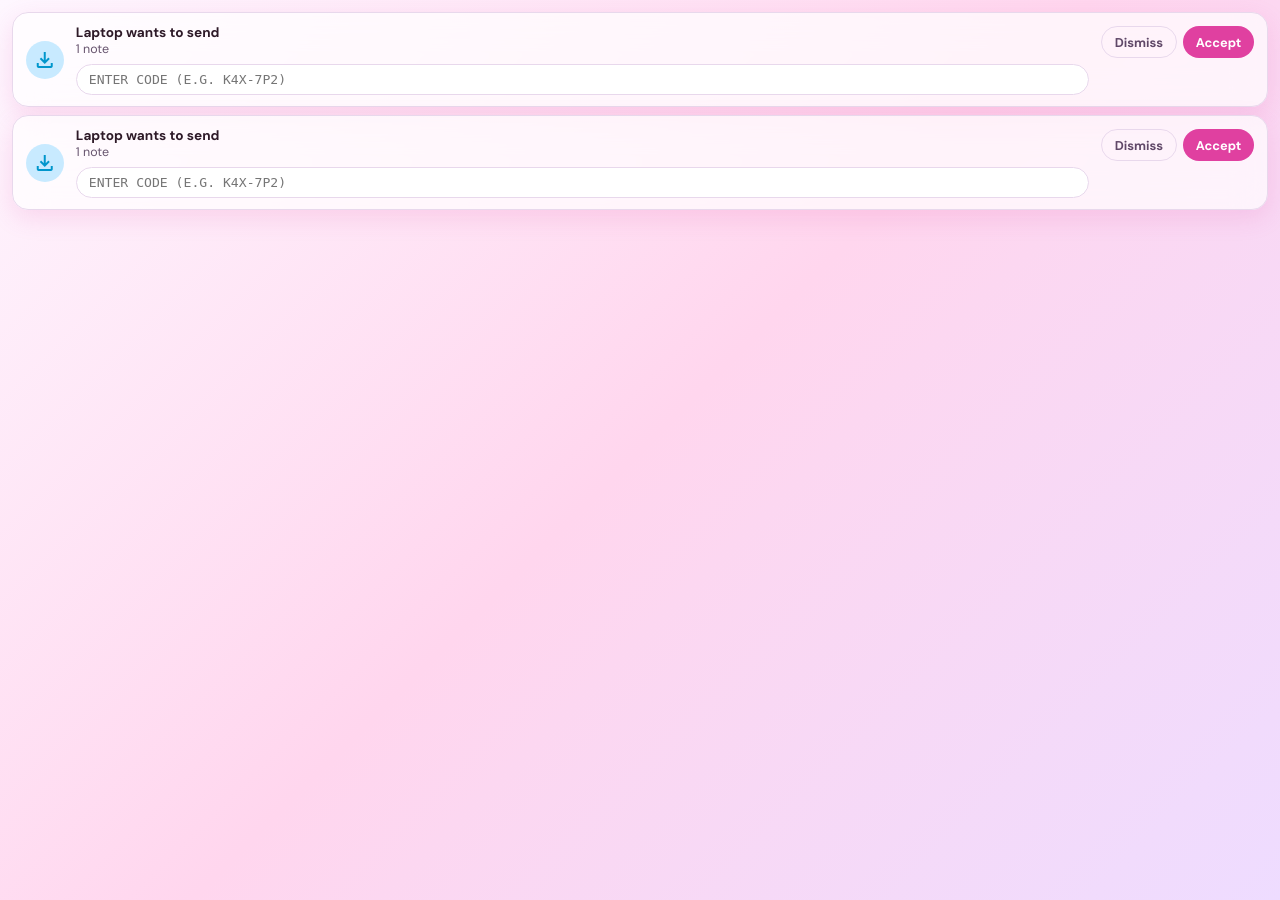
it: keeping offers apart › shows an error only on the offer that failed
Type "BADBAD" into the 1st field with class "code-input".
click(582, 79); type("BADBAD")  # box [76,64,1089,95]
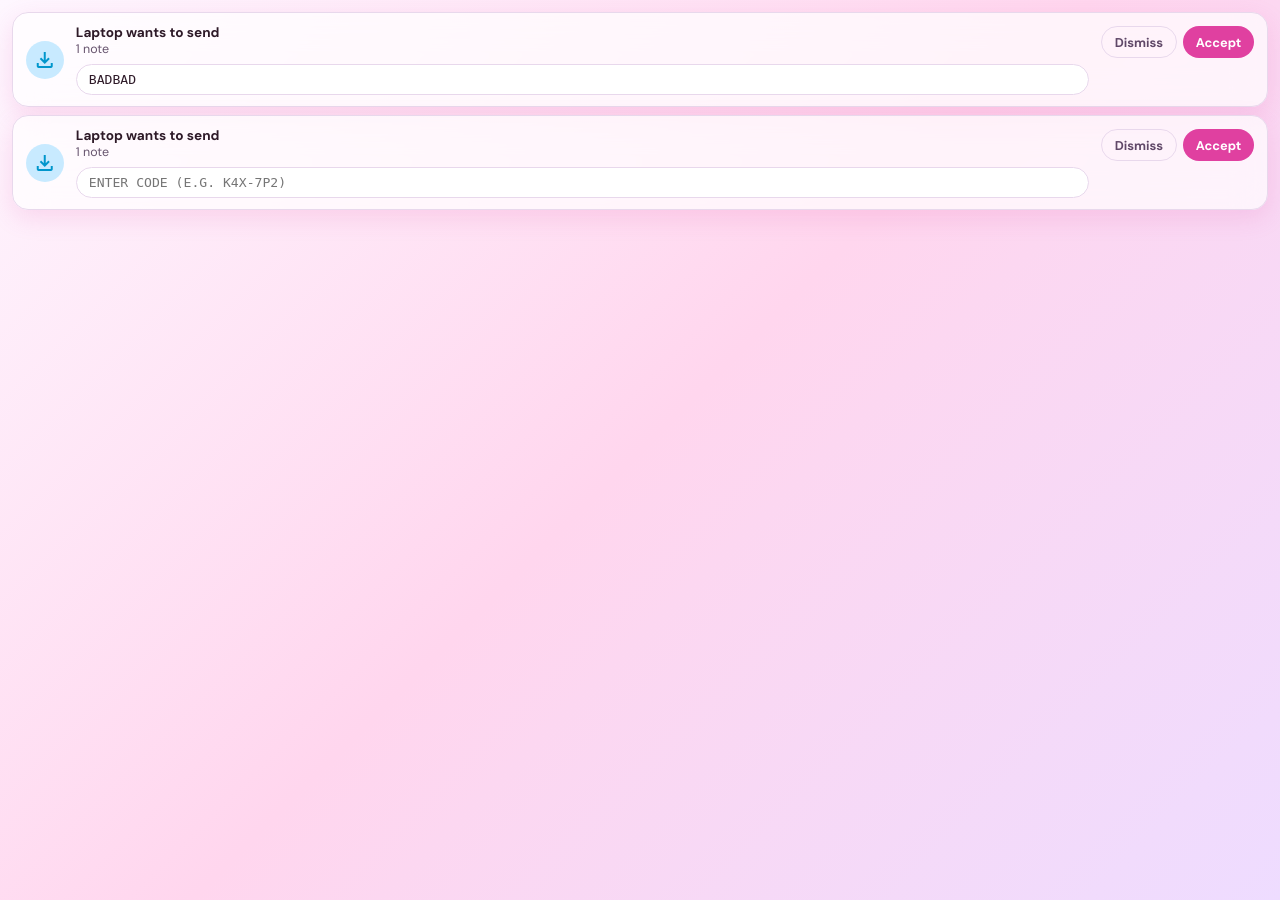
Click the 1st button with class "btn-accept".
click(1219, 42)  # box [1183,26,1254,58]
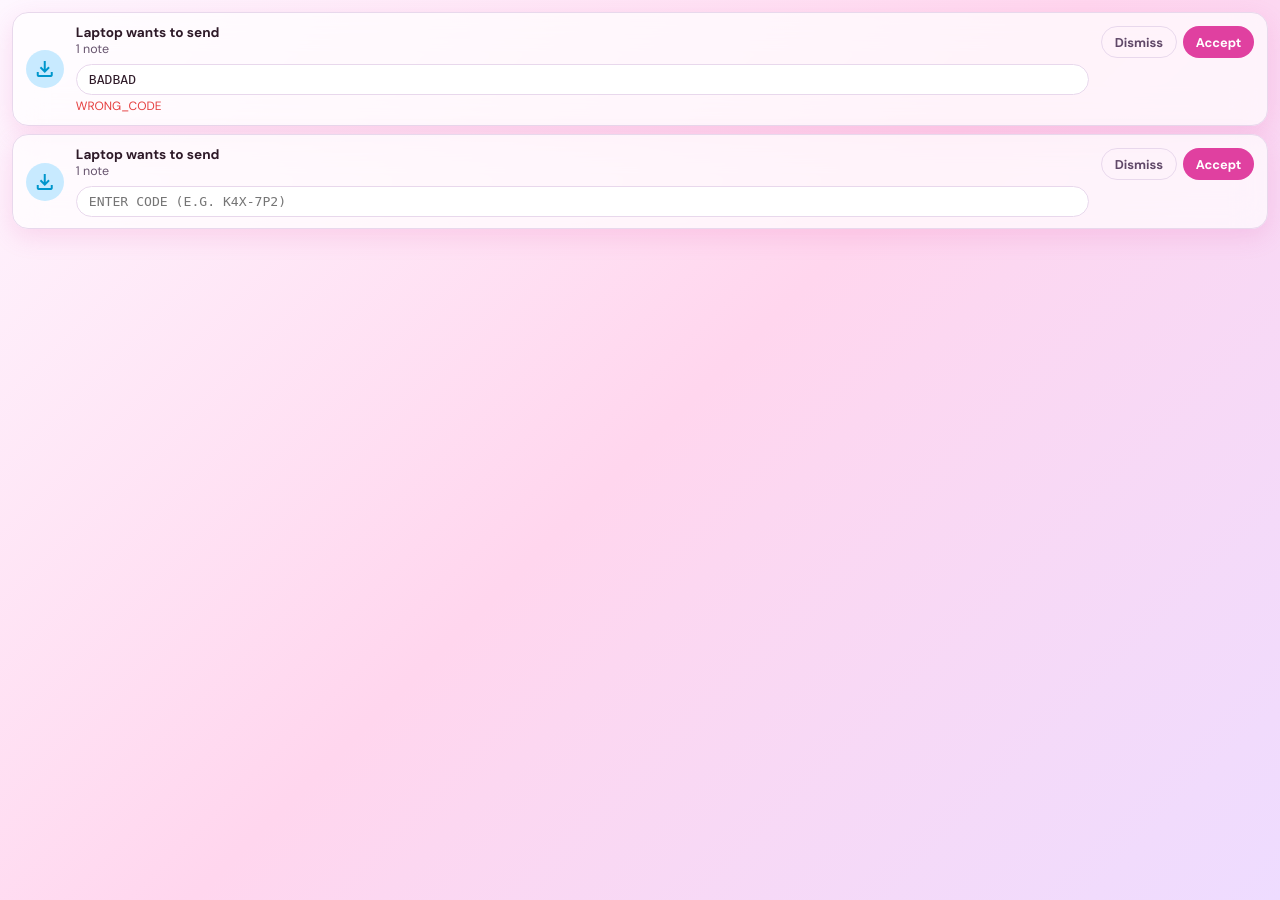
Expected: the element with class "toast" does not show "WRONG_CODE"
Result: the element with class "toast" shows "WRONG_CODE" at [76,98,162,114]
